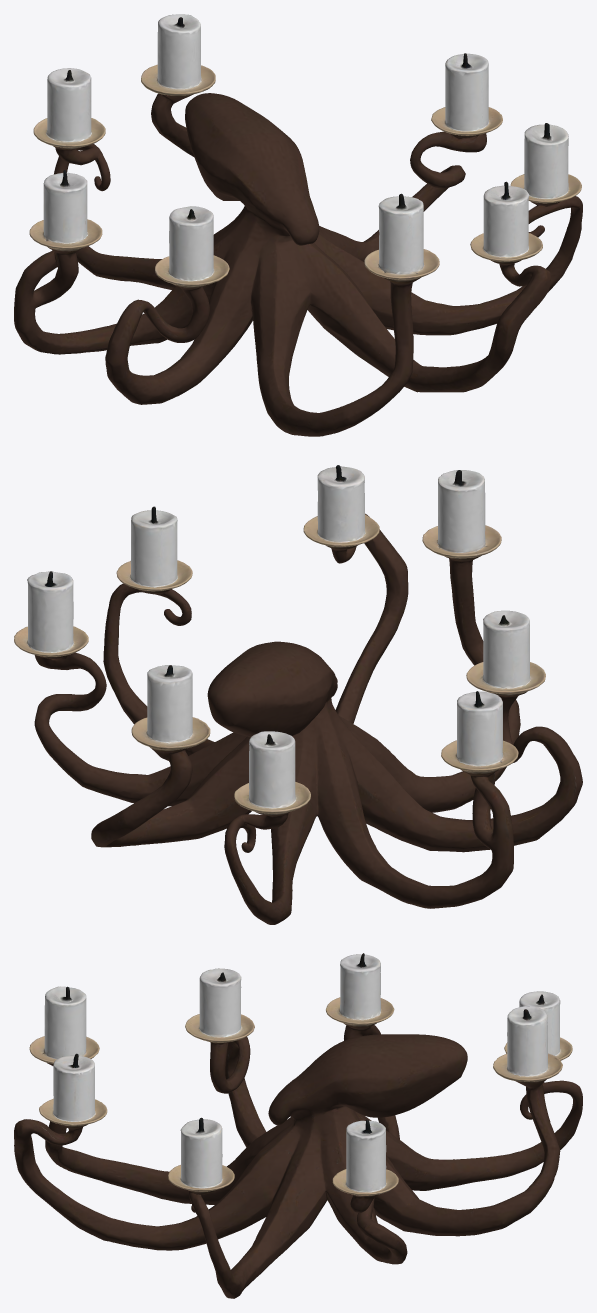
File: candelabra.glb
3 renders of one model, top to bottom at view 1: azimuth 30°, elevation 25°; view 2: azimuth 150°, elevation 25°; view 3: azimuth 270°, elevation 25°, orthographic. The views are drawn at different scales.
Parts seen in each view (by area): view 1: geometry_0; view 2: geometry_0; view 3: geometry_0.
Boxes of the visible parts, bbox=[...] form: geometry_0: bbox=[14, 14, 582, 436]; geometry_0: bbox=[14, 465, 582, 924]; geometry_0: bbox=[14, 953, 582, 1298].
Size of the model in its own units: 0.8942 by 0.4689 by 1.
1 material, 1 textured.
